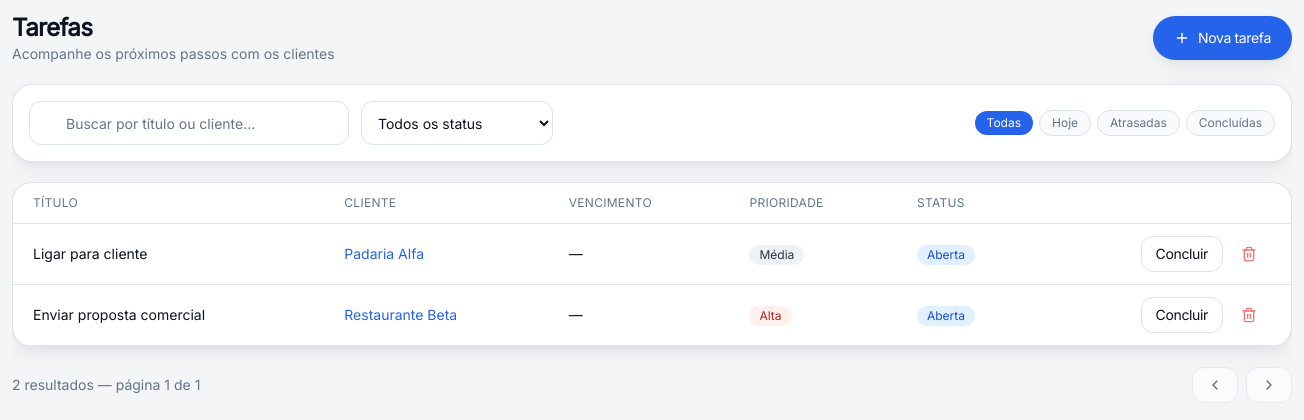
it: TasksPage › filters tasks by search term
Type "proposta" into the field named "Buscar tarefas" at coordinates (189, 123), box [29,101,349,145]
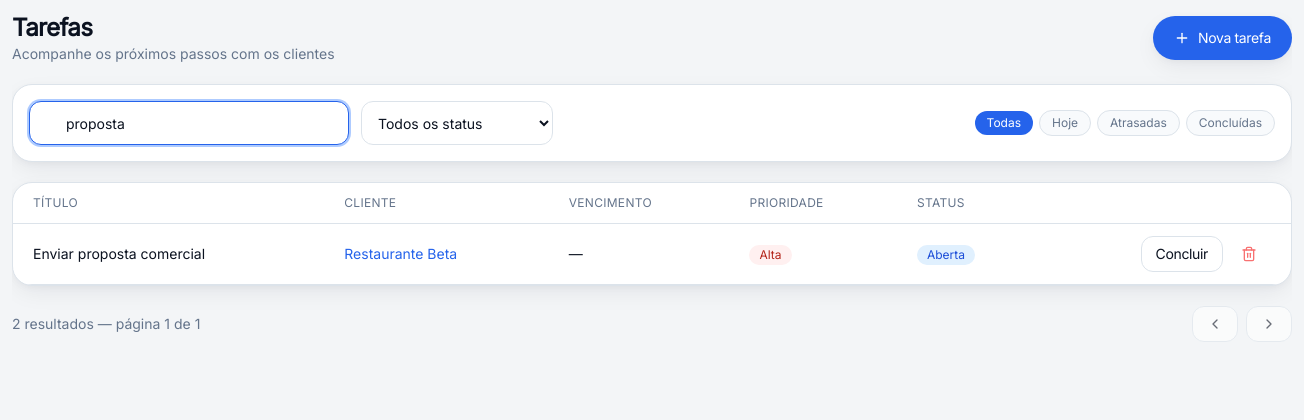
Expected: the text "Ligar para cliente" is gone
